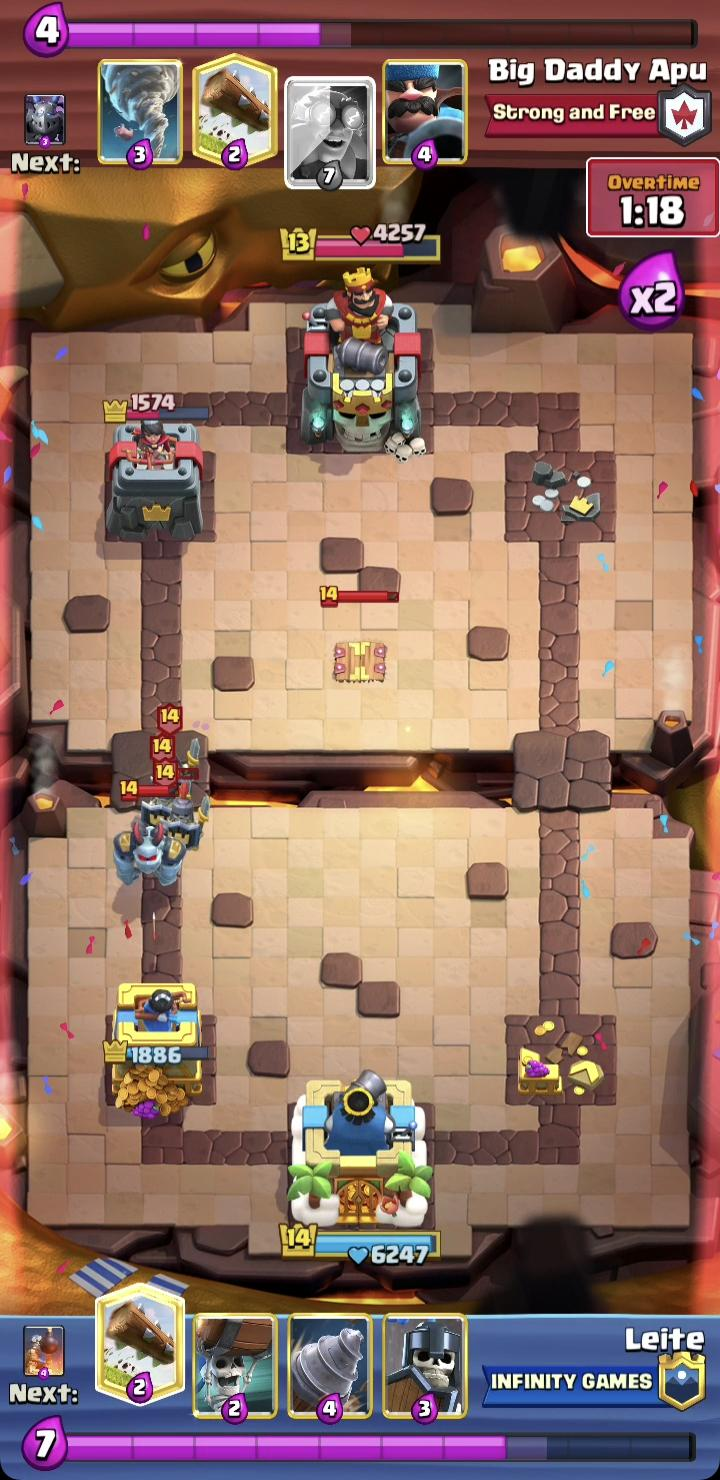enemy_guard: (151, 757, 210, 853), (148, 731, 188, 829), (156, 702, 201, 776)
enemy_mega_minion: (114, 780, 185, 885)
enemy_tesla_hidden: (318, 583, 401, 683)
